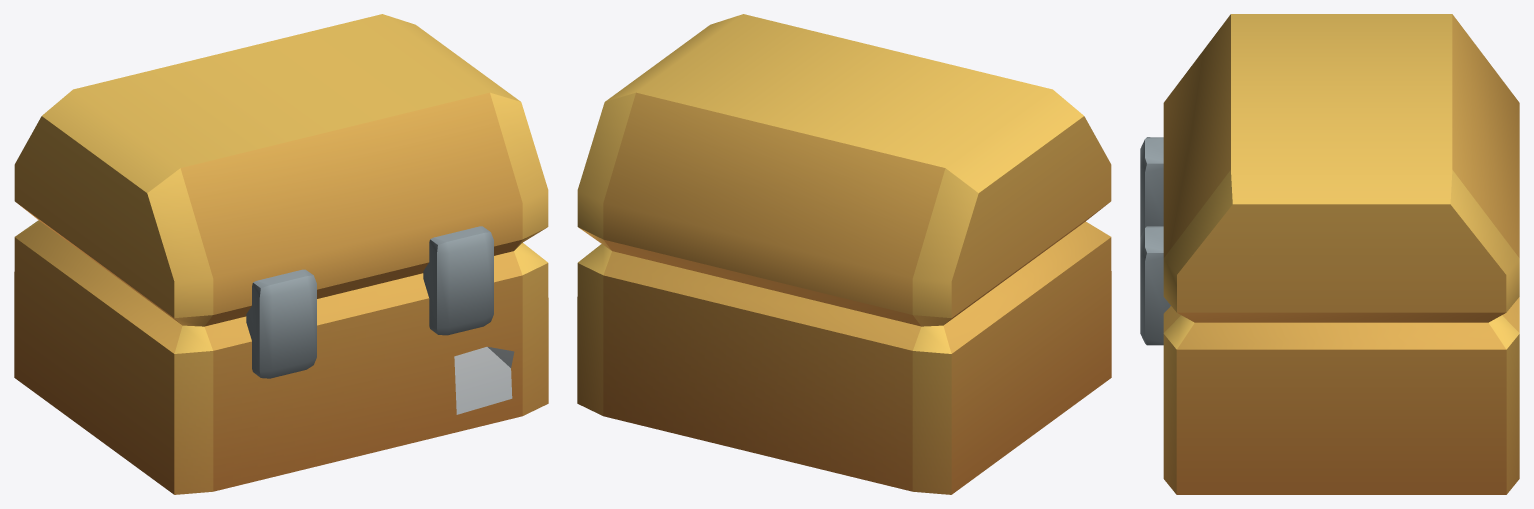
Rendered from ammo_crate_withLid.gltf.
3 renders of one model, left to right at view 1: azimuth 30°, elevation 25°; view 2: azimuth 150°, elevation 25°; view 3: azimuth 270°, elevation 25°, orthographic. The views are drawn at different scales.
Parts seen in each view (by area): view 1: ammo_crate_lid, ammo_crate_withLid; view 2: ammo_crate_lid, ammo_crate_withLid; view 3: ammo_crate_lid, ammo_crate_withLid.
Part boxes in pixels (x1,y1,x2,y2): ammo_crate_lid: [14, 14, 548, 378]; ammo_crate_withLid: [14, 220, 548, 494]; ammo_crate_lid: [577, 14, 1111, 326]; ammo_crate_withLid: [577, 221, 1111, 494]; ammo_crate_lid: [1140, 14, 1519, 345]; ammo_crate_withLid: [1163, 297, 1519, 494].
Bounding box in the file's own units: 0.575 × 0.46 × 0.4901.
1 material, 1 textured.
